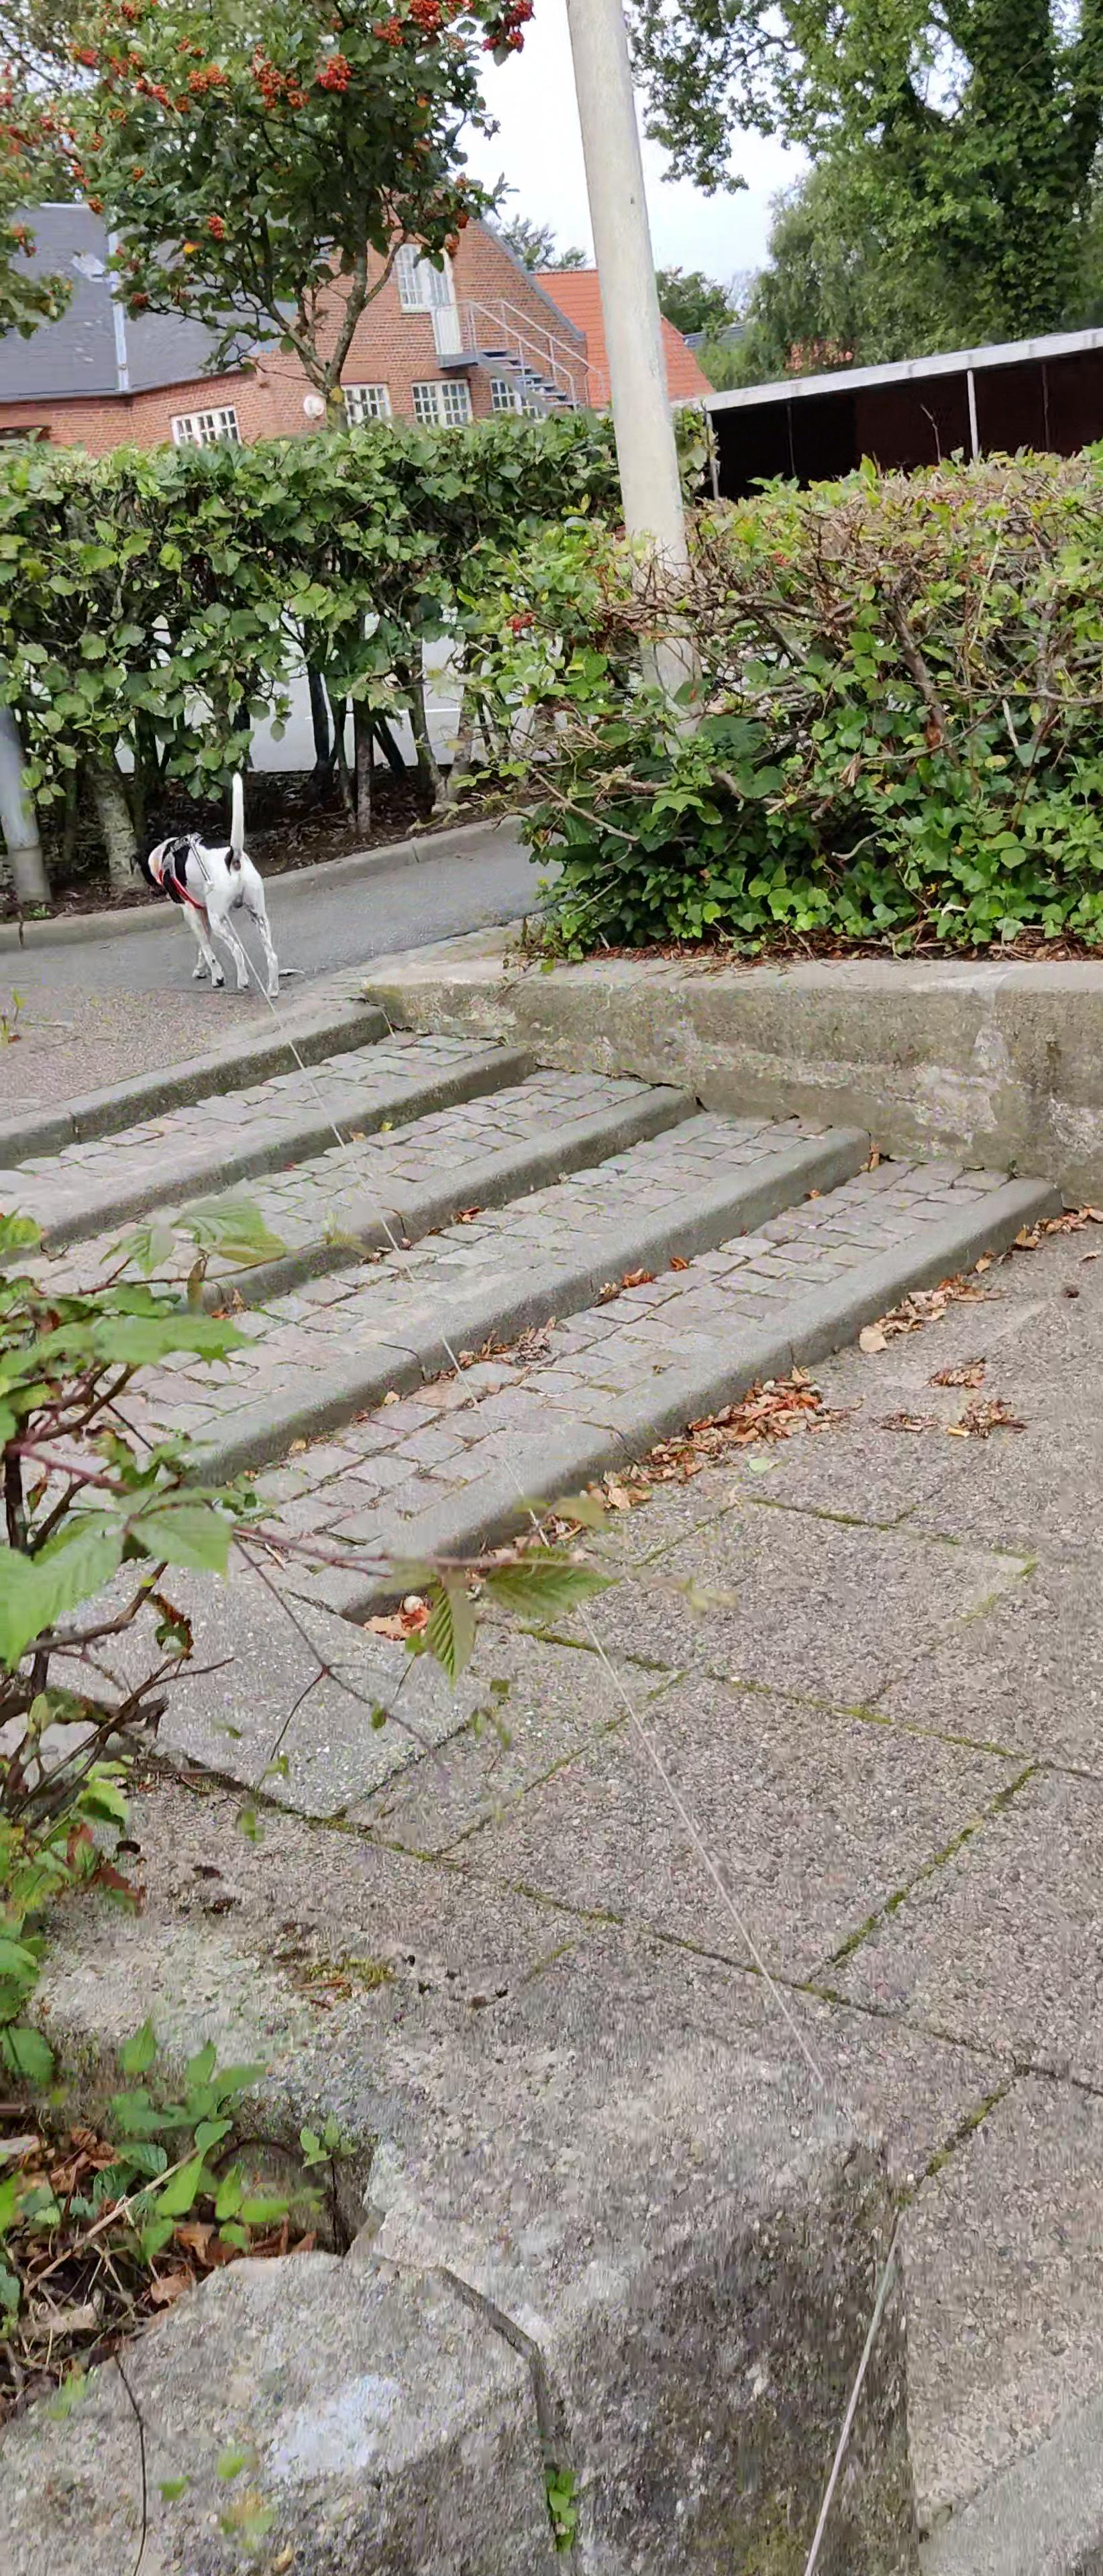Dog: (128, 769, 283, 999)
